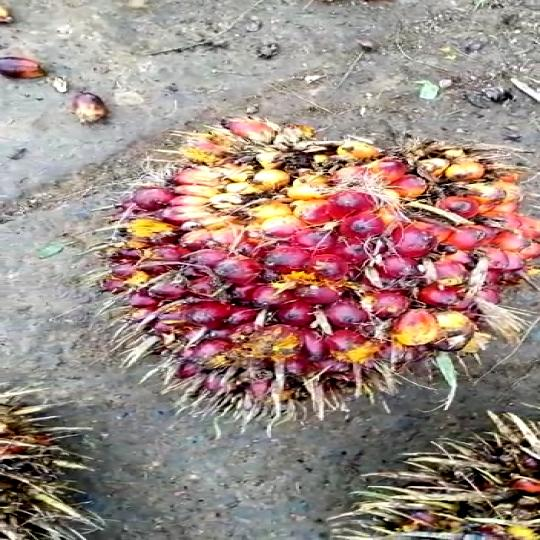masak: (100, 119, 540, 418)
